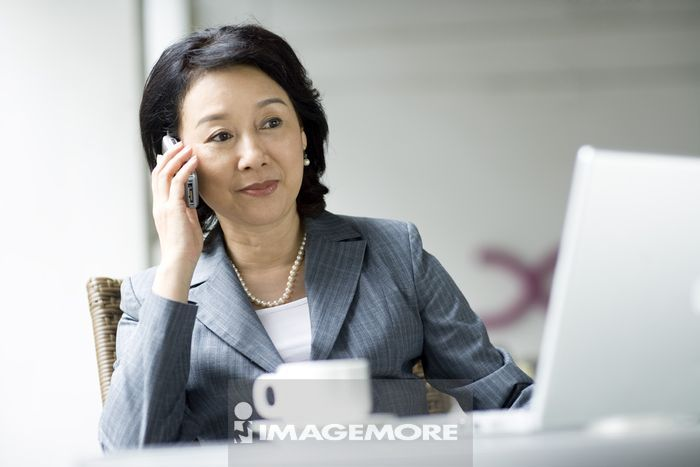phone: (163, 134, 198, 206)
talk: (150, 91, 293, 269)
